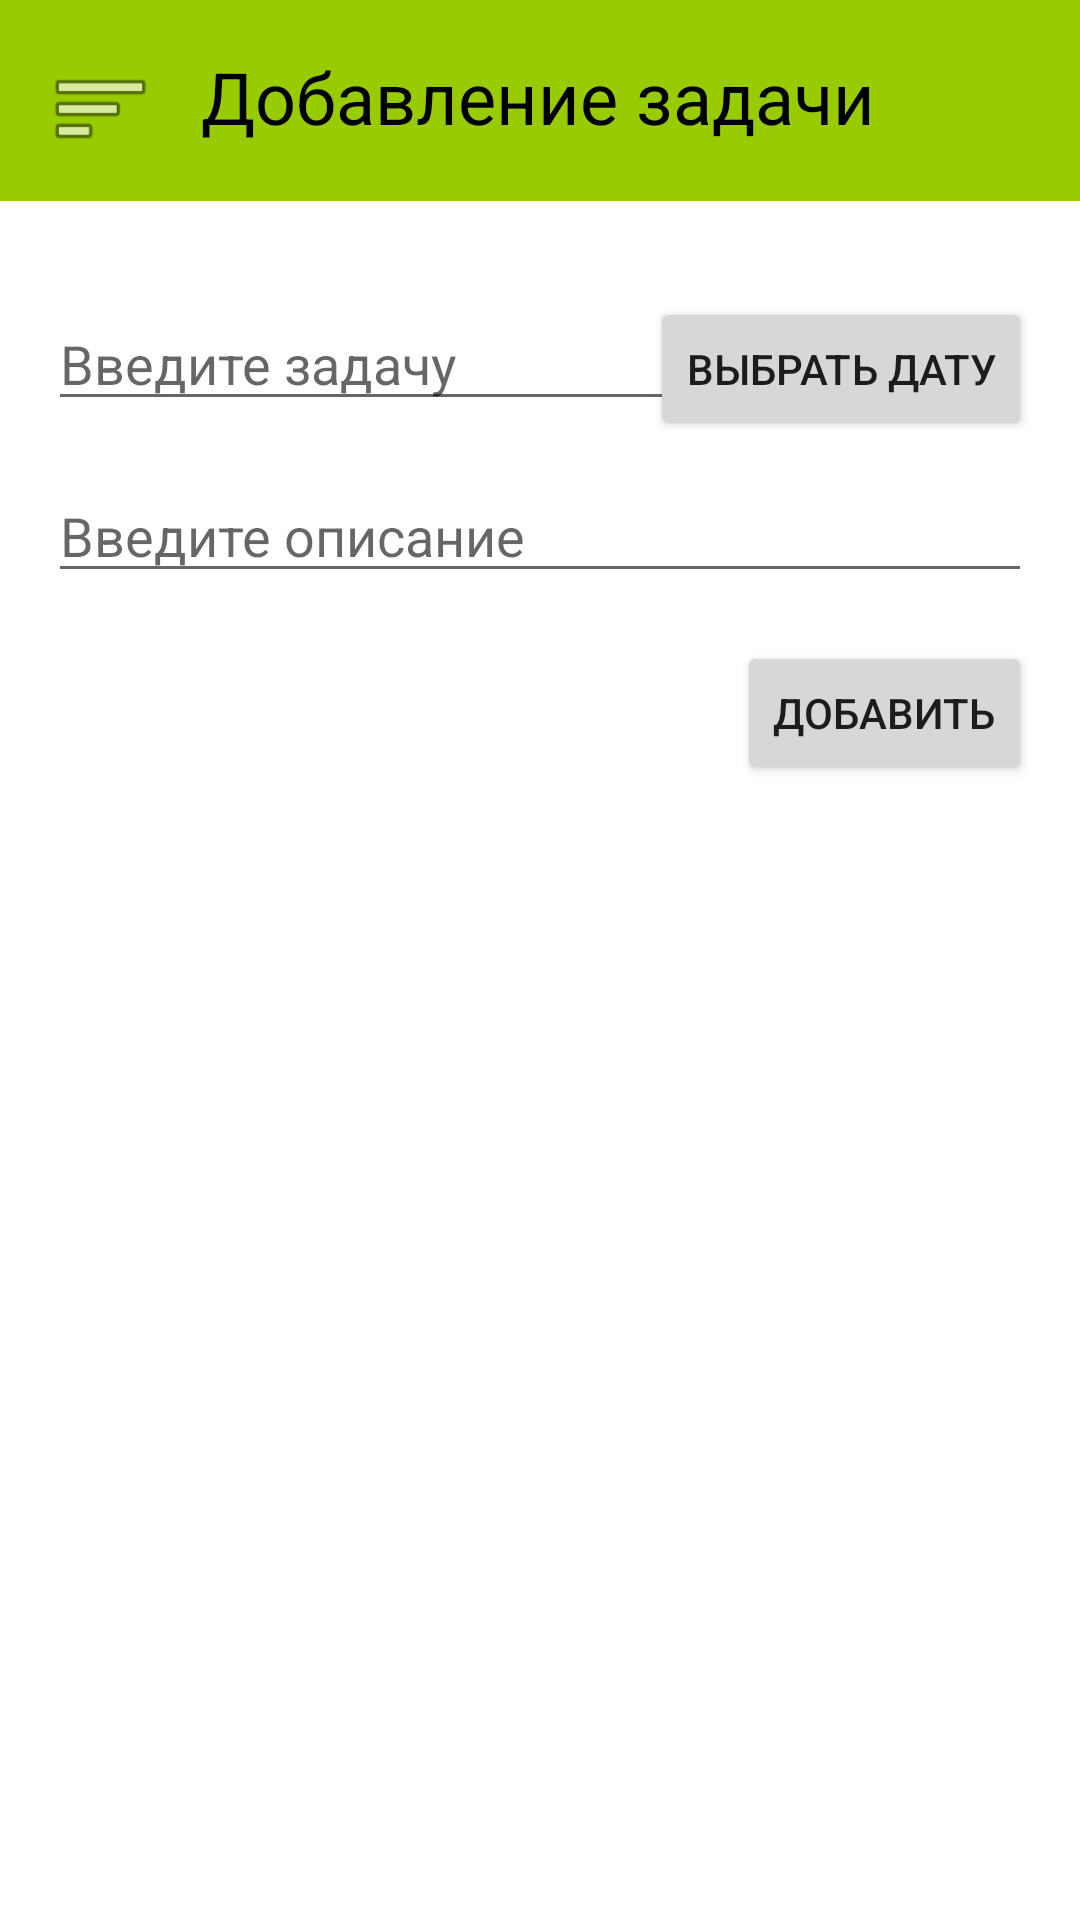

Icons on this 1080×1920 Android screen, each with the point to tap as (x=x, y=y):
sort by size: (x=100, y=109)
